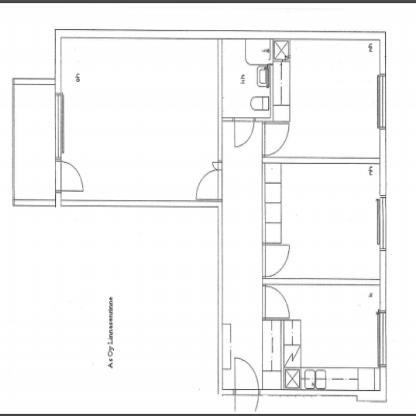door: (50, 156, 88, 198), (259, 241, 294, 280), (259, 285, 294, 323), (193, 165, 227, 204), (261, 120, 293, 160), (231, 354, 260, 396), (230, 114, 258, 150)
window: (51, 90, 69, 160), (371, 70, 388, 134), (374, 308, 391, 370), (374, 194, 388, 255)
